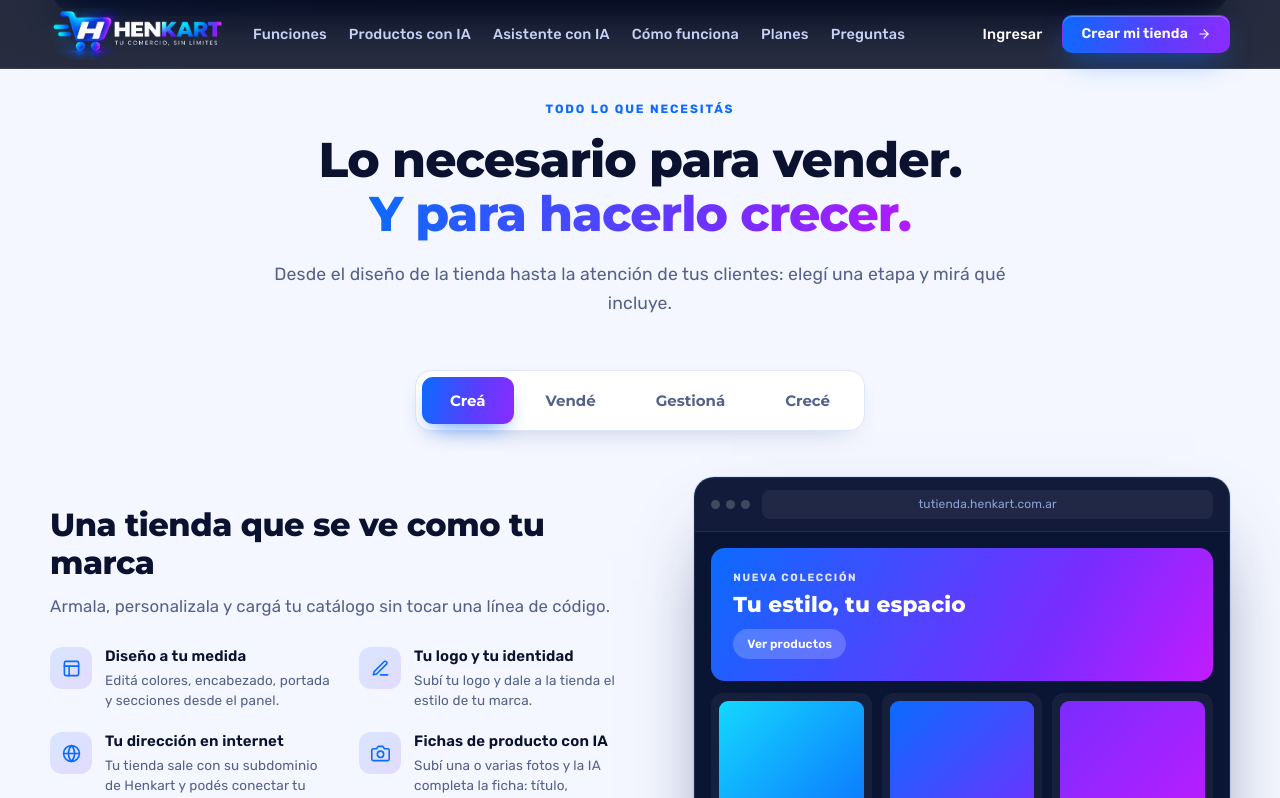
Test case: PlatformLanding · funciones por pestañas › cambia de panel al hacer clic
(page scrolled)
Click the tab "Vendé": x=571, y=400 [518,377,624,424]
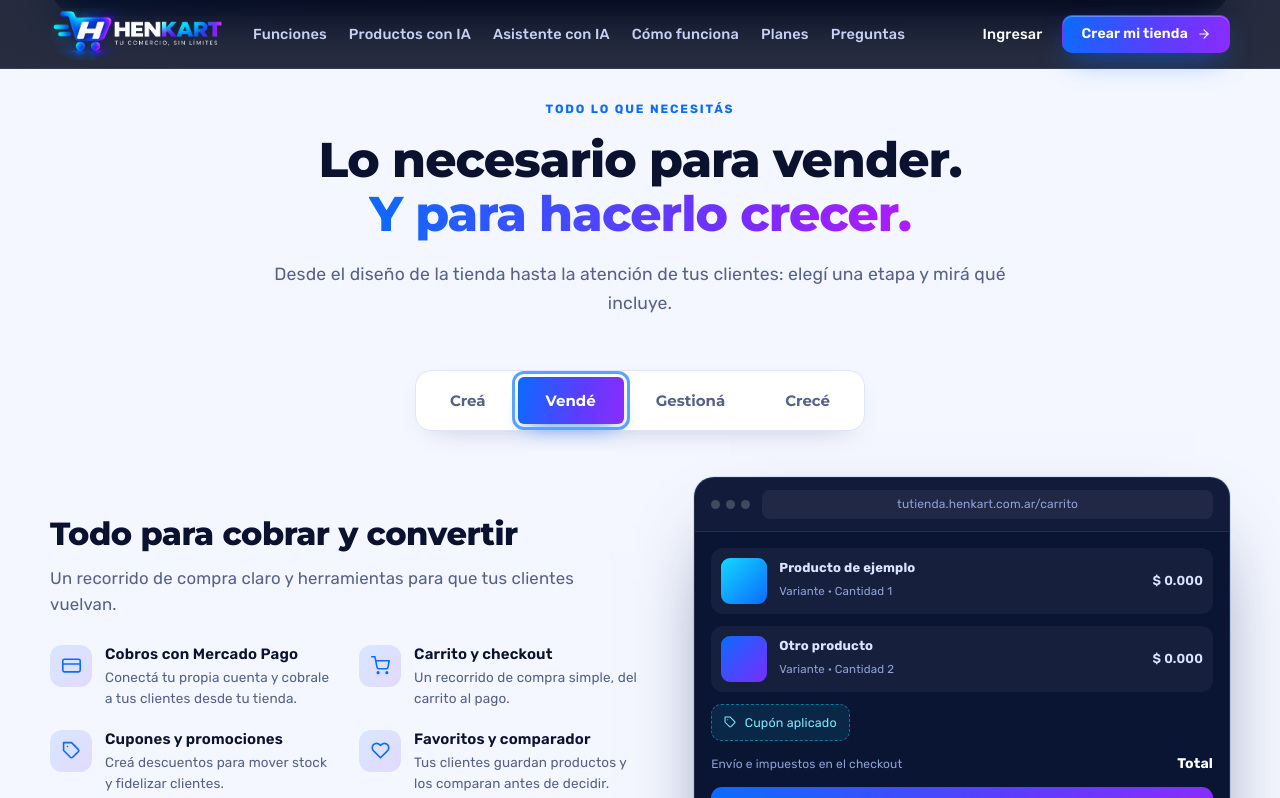
Expected: the heading "Todo para cobrar y convertir" is shown, [50,514,518,553]
Expected: the heading "Una tienda que se ve como tu marca" is gone
